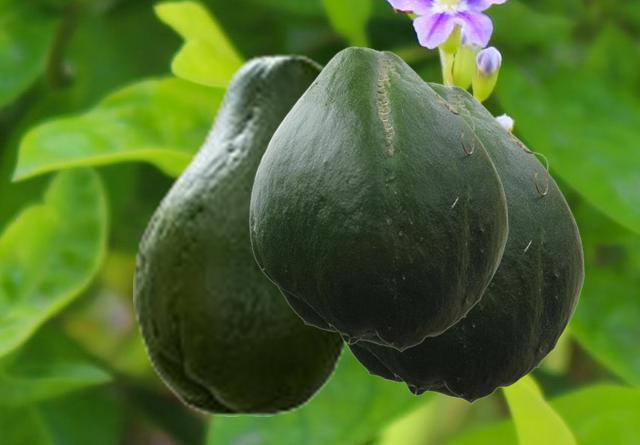sayote: (249, 46, 507, 351), (133, 53, 350, 415), (347, 81, 583, 403)
